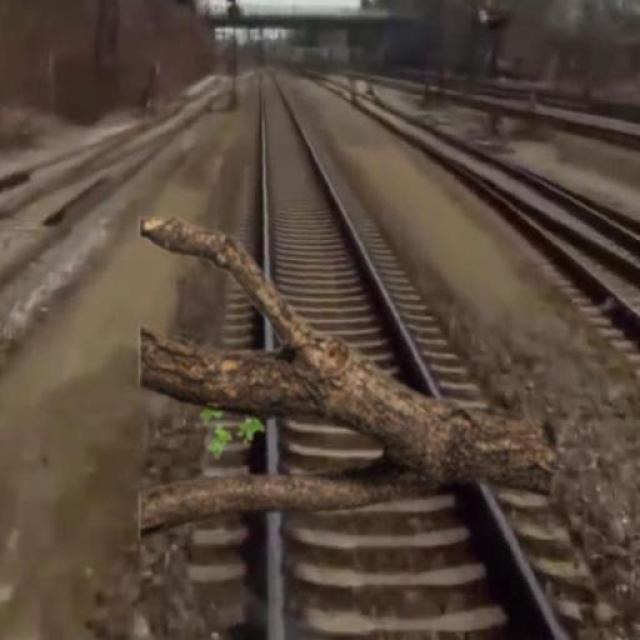Branches: (134, 339, 552, 530)
